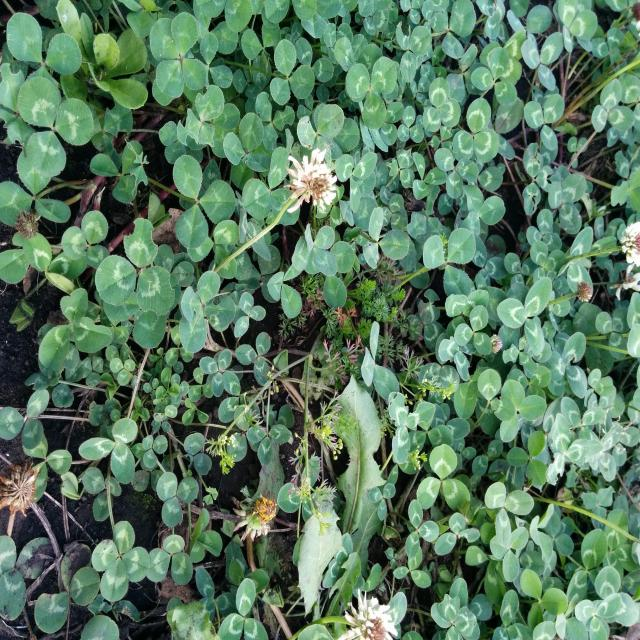Four Leaf Clover: (150, 12, 207, 98), (91, 522, 150, 602)
